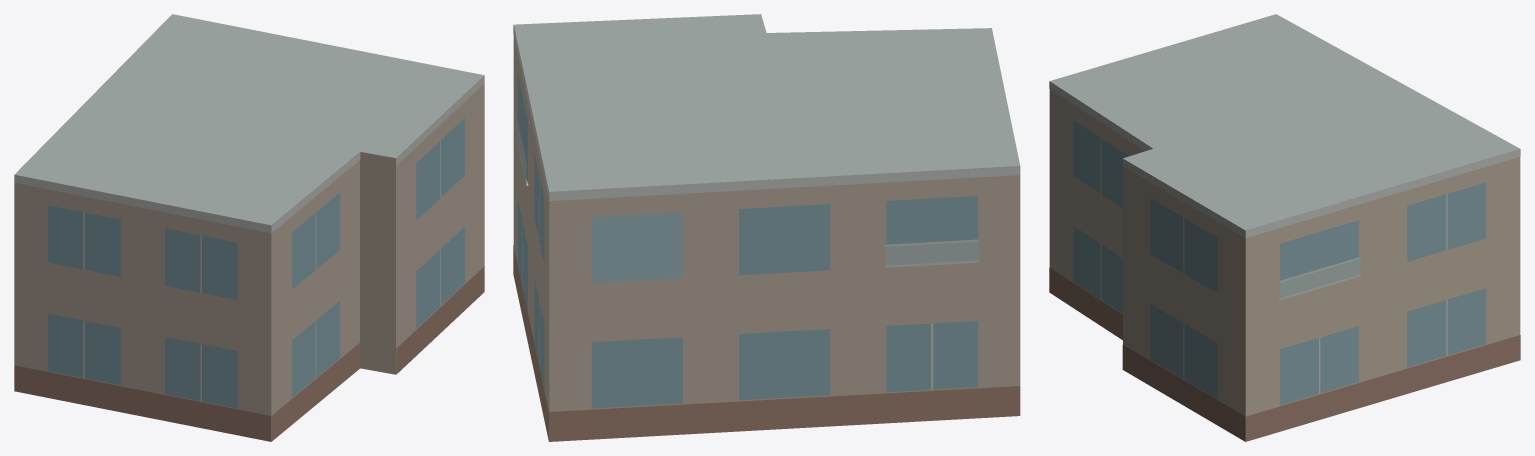
File: survey-upis-32761943.glb
The picture shows the model from 3 angles, left to right: view 1: azimuth 30°, elevation 25°; view 2: azimuth 150°, elevation 25°; view 3: azimuth 270°, elevation 25°; orthographic projection. The views are drawn at different scales.
Parts seen in each view (by area): view 1: survey-upis-32761943.tmp; view 2: survey-upis-32761943.tmp; view 3: survey-upis-32761943.tmp.
Part boxes in pixels (x1,y1,x2,y2): survey-upis-32761943.tmp: [14, 14, 484, 441]; survey-upis-32761943.tmp: [513, 14, 1020, 441]; survey-upis-32761943.tmp: [1049, 14, 1520, 441].
Size of the model in its own units: 14.51 by 6.6 by 13.34.
